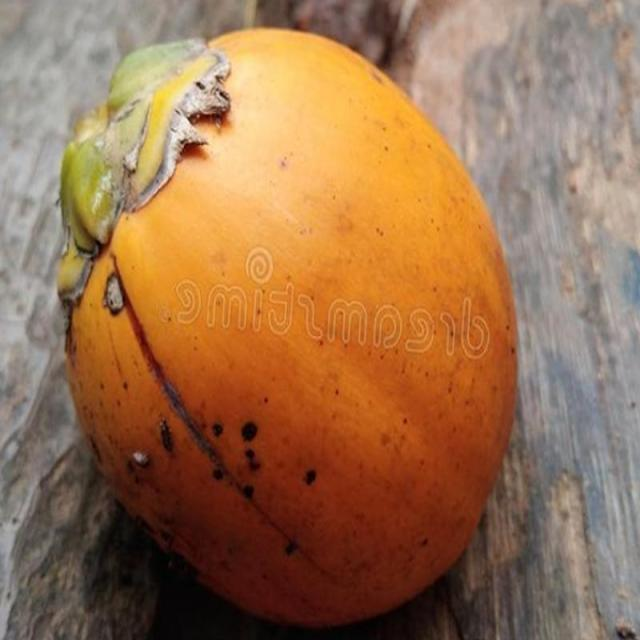good: (55, 29, 519, 635)
